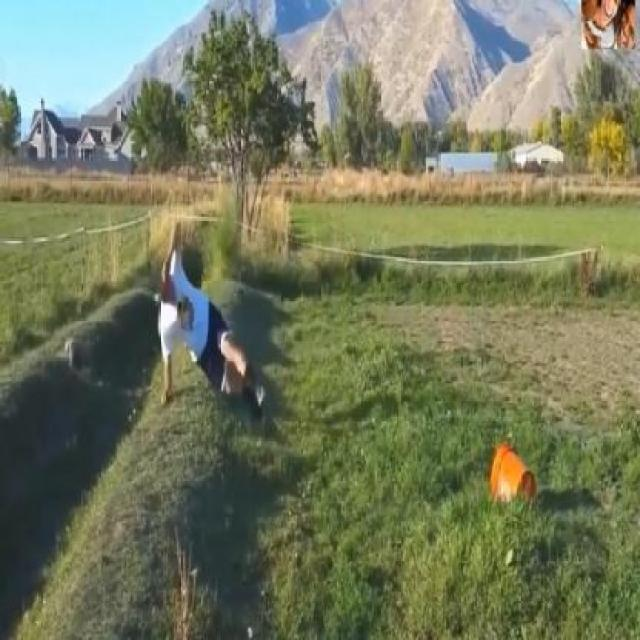fall: (150, 228, 267, 417)
